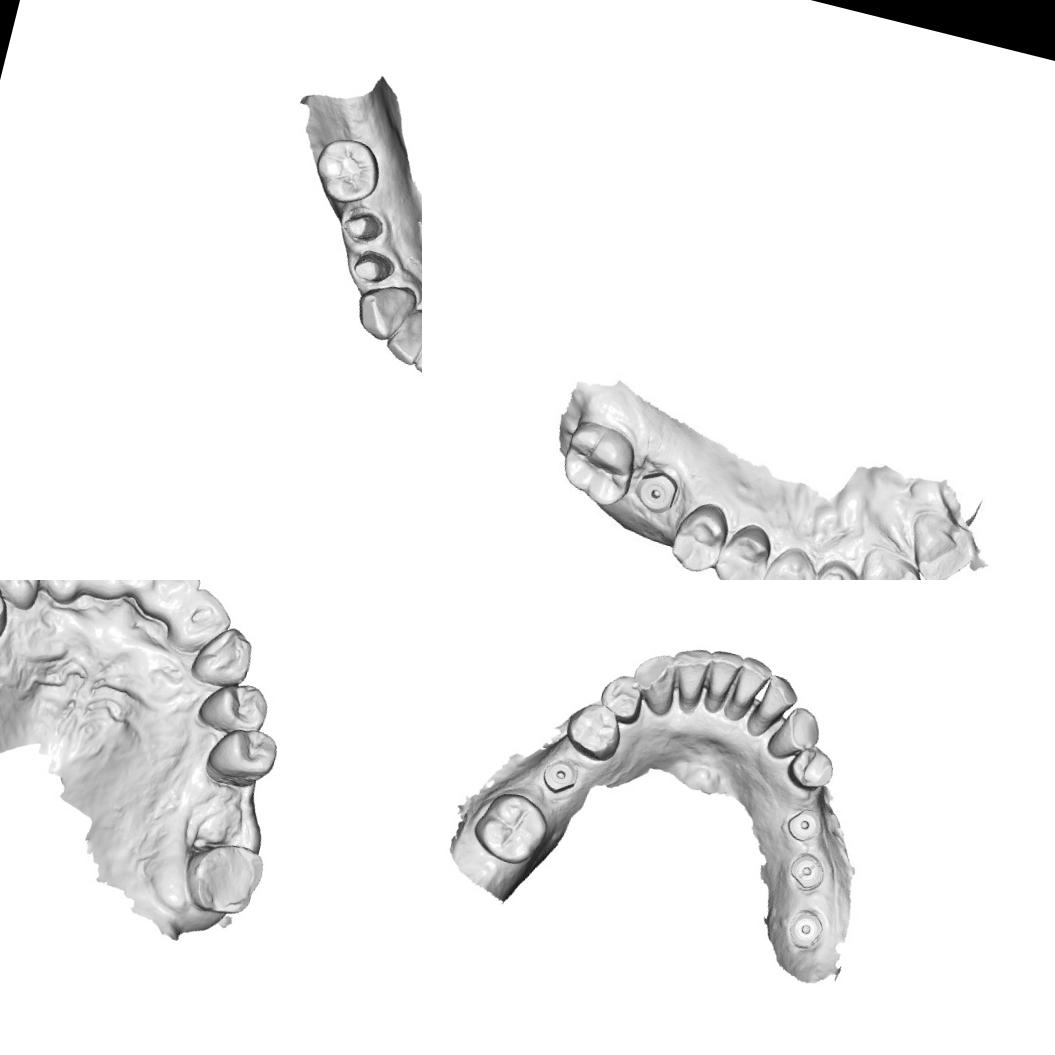canine: (186, 620, 258, 692), (350, 274, 420, 348), (763, 698, 827, 768), (622, 646, 684, 718), (754, 538, 829, 580), (0, 580, 50, 612)
crown: (347, 244, 398, 288), (336, 206, 387, 247)
implant: (628, 464, 684, 518), (782, 905, 828, 954), (538, 754, 582, 798), (782, 802, 824, 846)
implant_minus: (782, 847, 830, 895)
incisor: (897, 506, 985, 580), (162, 581, 238, 663), (129, 580, 206, 628), (663, 641, 715, 707), (849, 541, 933, 580), (724, 653, 775, 715), (752, 669, 802, 730), (380, 301, 422, 369), (698, 645, 745, 705), (74, 580, 150, 609), (25, 580, 91, 607), (808, 552, 869, 580), (411, 315, 422, 381)
molar: (176, 832, 270, 924), (553, 414, 642, 510), (464, 783, 554, 872), (306, 130, 388, 211)
premolar: (198, 718, 281, 796), (192, 672, 274, 742), (664, 497, 732, 578), (558, 694, 630, 766), (711, 516, 779, 580), (782, 738, 840, 797), (594, 669, 648, 727)
